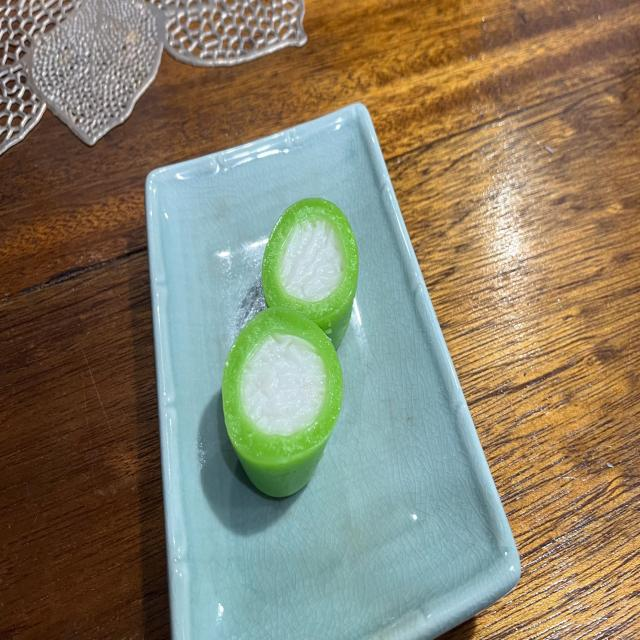nona-manis: (222, 307, 342, 498), (262, 198, 359, 349)
